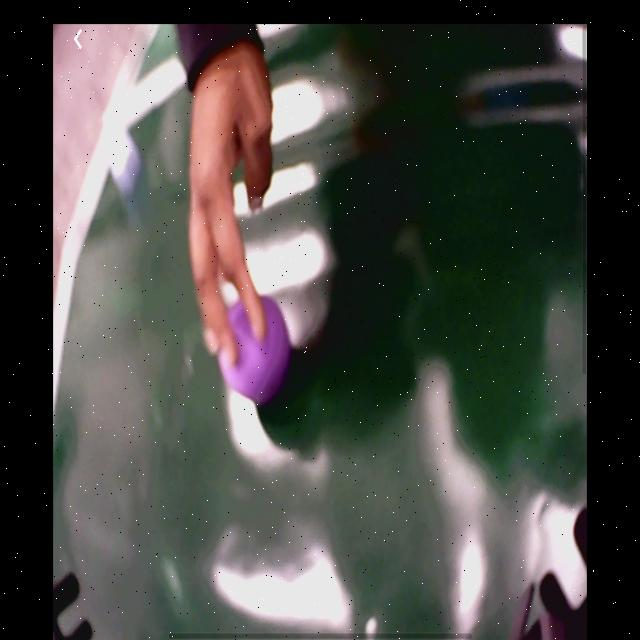ball: (222, 298, 288, 404)
